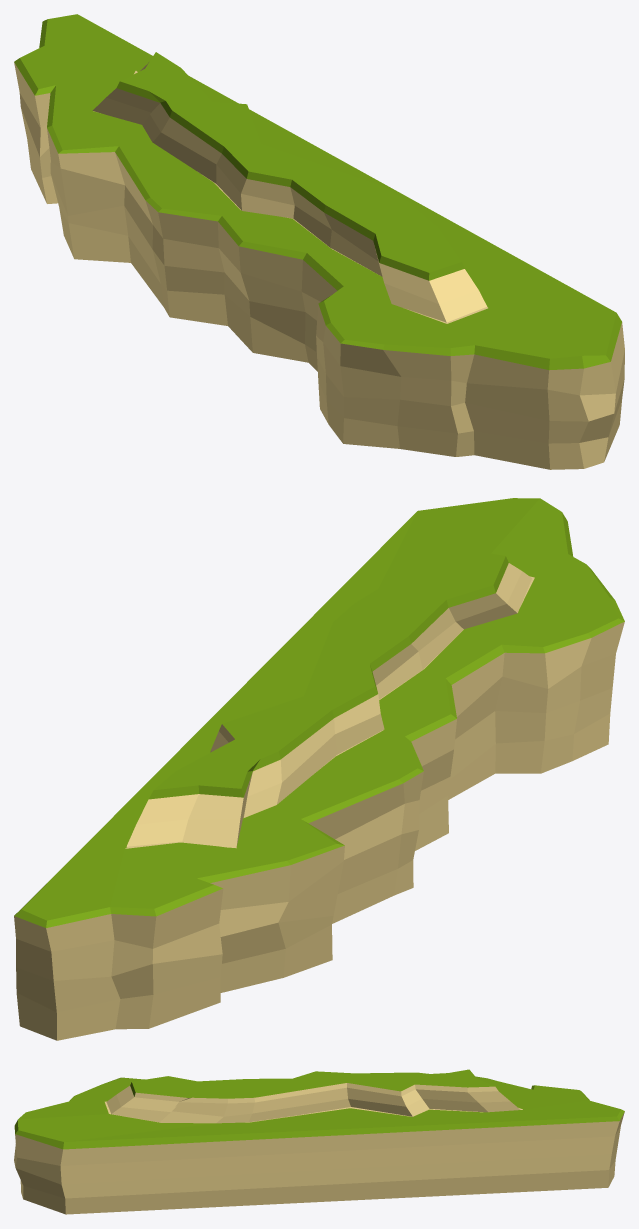
The model's file is SimpleCliff 2.fbx.
The picture shows the model from 3 angles, top to bottom: view 1: azimuth 30°, elevation 25°; view 2: azimuth 150°, elevation 25°; view 3: azimuth 270°, elevation 25°; orthographic projection. The views are drawn at different scales.
Parts seen in each view (by area): view 1: Plane.001; view 2: Plane.001; view 3: Plane.001.
Part boxes in pixels (box(x1,y1,x2,y2)): Plane.001: box(14, 14, 624, 469); Plane.001: box(14, 498, 624, 1040); Plane.001: box(14, 1069, 624, 1214).
Bounding box in the file's own units: 1629 × 919 × 5477.
